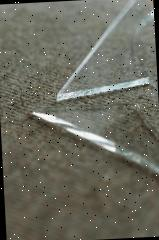glass: (24, 0, 159, 183)
